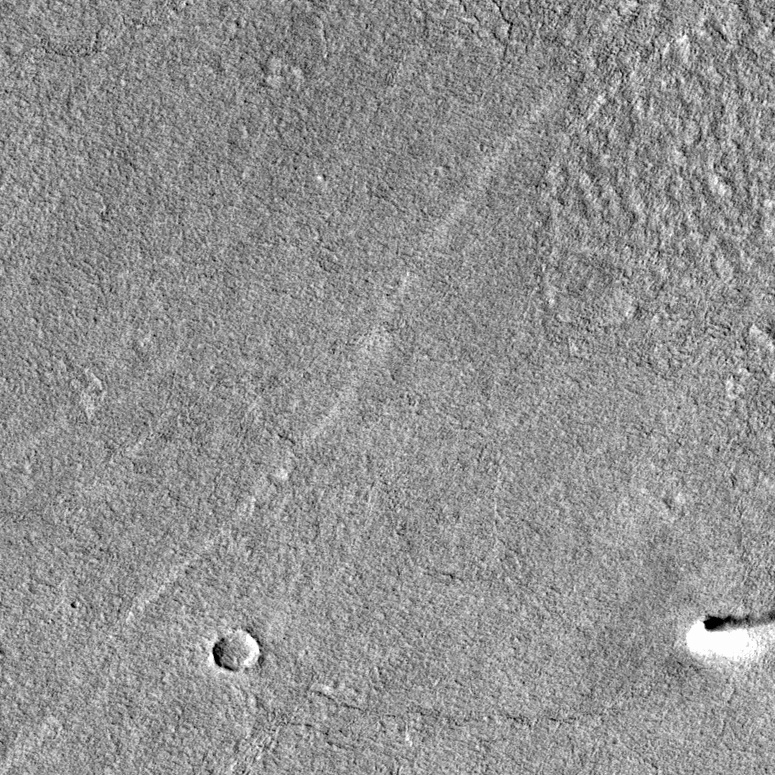dust_devil: (680, 609, 775, 673)
